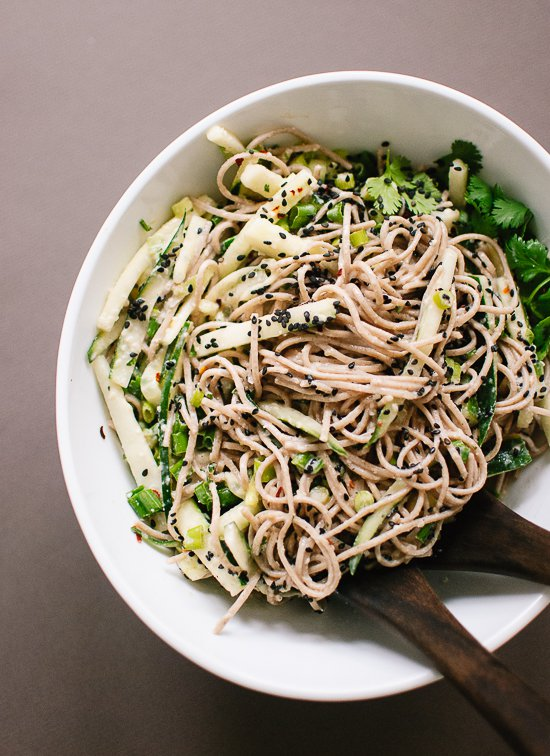Soba: (124, 141, 550, 595)
